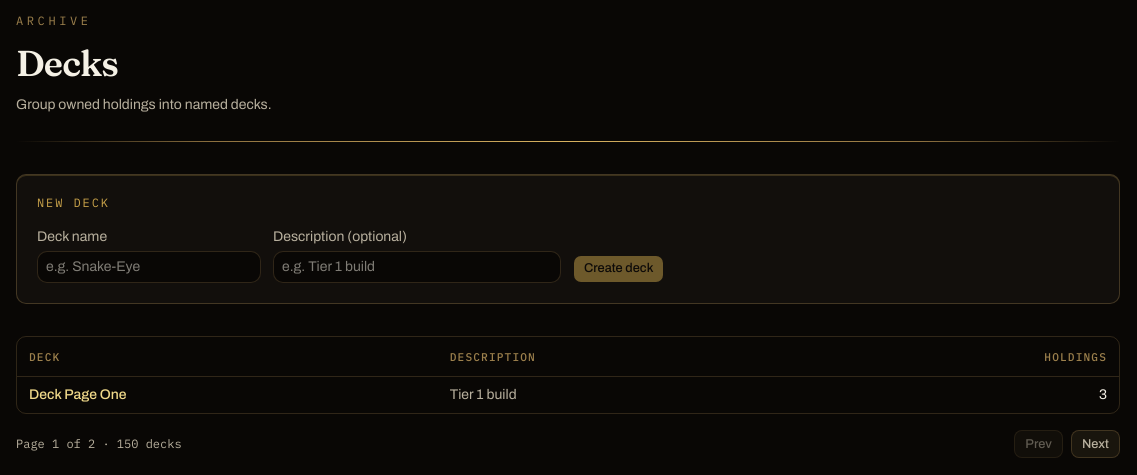
it: DecksPage — list › pages forward
Expected: the link "Deck Page One" is shown, [29,387,127,402]
Click the button "Next" at (1095, 444), box [1071,430,1120,458]
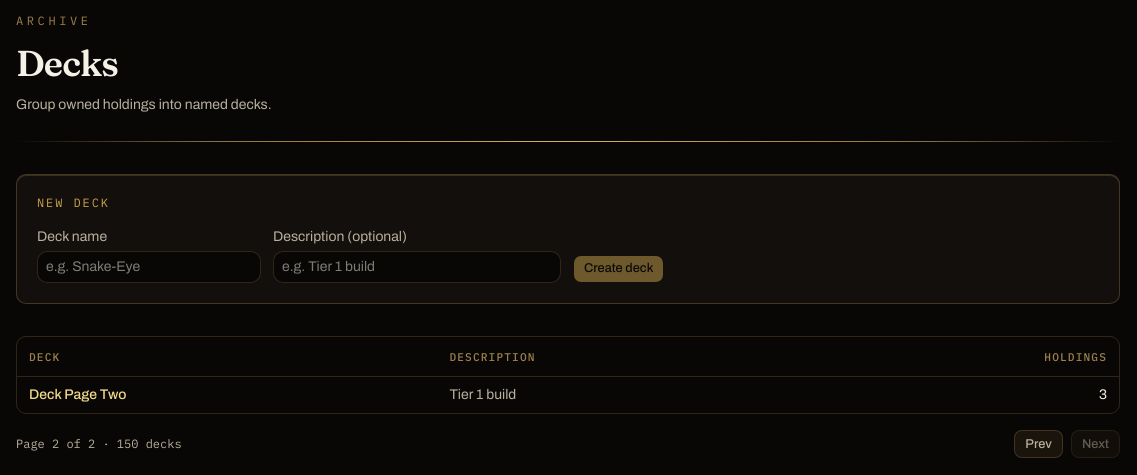
Now the link "Deck Page Two" is shown, box [29,387,126,402]
